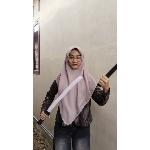Pedang: (39, 78, 87, 120)
